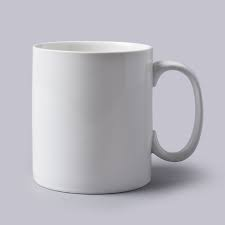mug: (18, 36, 206, 204)
